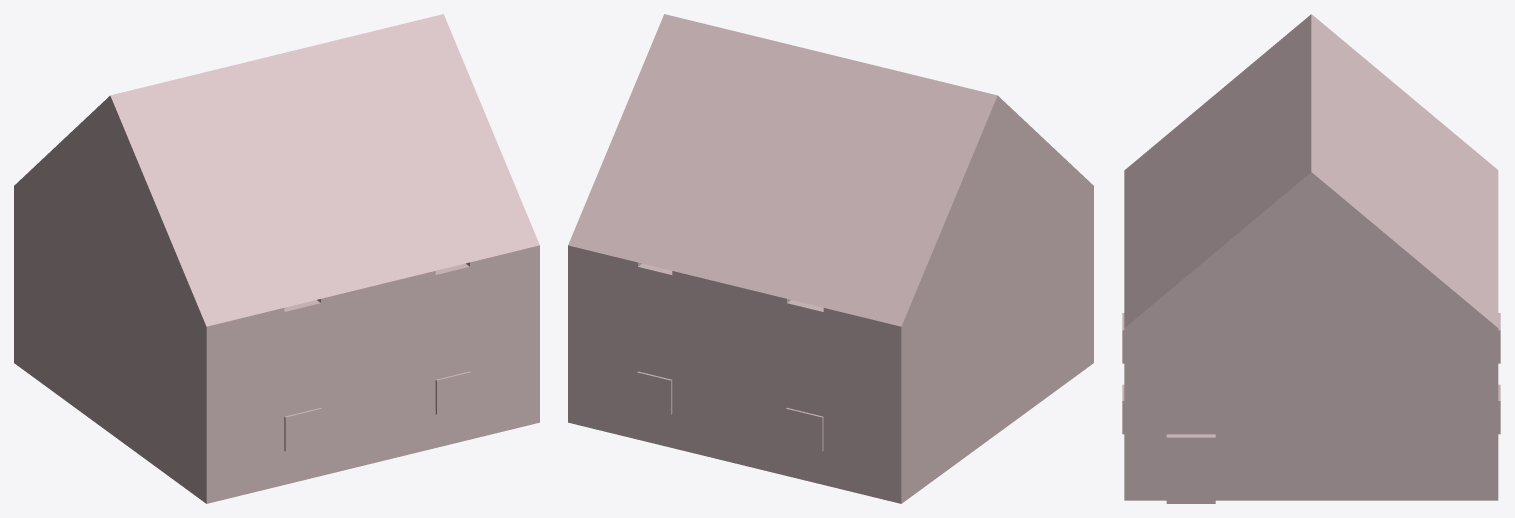
File: house.fbx
3 renders of one model, left to right at view 1: azimuth 30°, elevation 25°; view 2: azimuth 150°, elevation 25°; view 3: azimuth 270°, elevation 25°, orthographic. The views are drawn at different scales.
Visible parts, largest first — view 1: Plane; view 2: Plane; view 3: Plane.
Part boxes in pixels (x1,y1,x2,y2): Plane: (14,14,539,503); Plane: (568,14,1093,503); Plane: (1122,14,1500,503).
Size of the model in its own units: 64.85 by 61.51 by 64.23.
